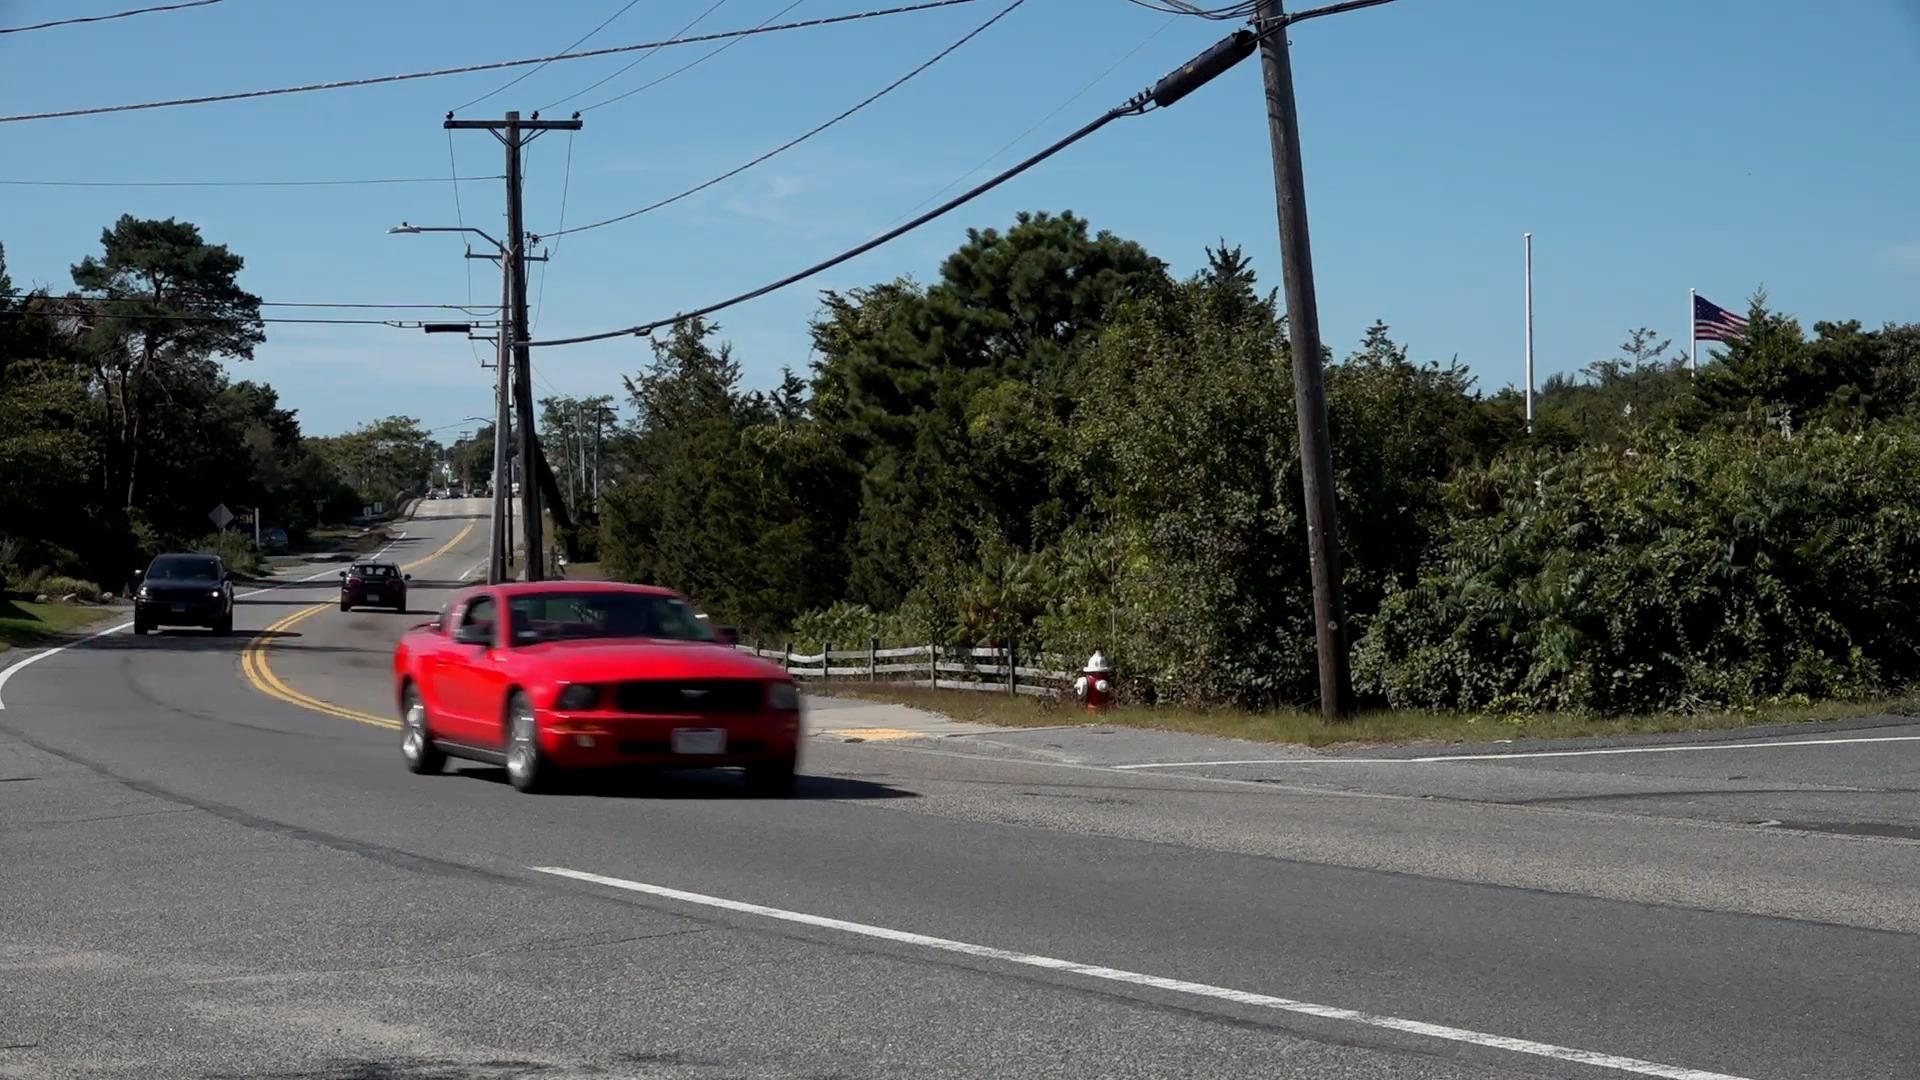sedans: (389, 578, 810, 789)
suv: (133, 550, 237, 634)
